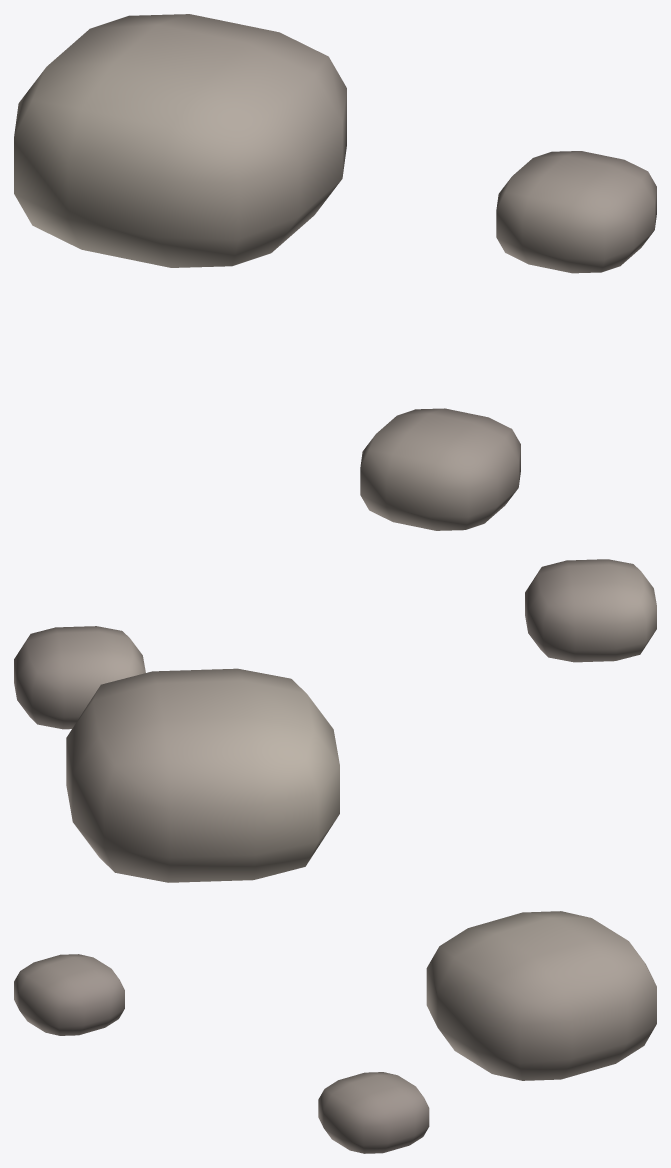
Rendered from Rocks_05.fbx.
The picture shows the model from 3 angles, top to bottom: view 1: azimuth 30°, elevation 25°; view 2: azimuth 150°, elevation 25°; view 3: azimuth 270°, elevation 25°; orthographic projection. The views are drawn at different scales.
Parts seen in each view (by area): view 1: Rocks_05; view 2: Rocks_05; view 3: Rocks_05.
Boxes of the visible parts, <box> form: Rocks_05: <box>14,14,656,530</box>; Rocks_05: <box>14,559,656,882</box>; Rocks_05: <box>14,911,656,1153</box>.
Bounding box in the file's own units: 104 × 34.27 × 172.
